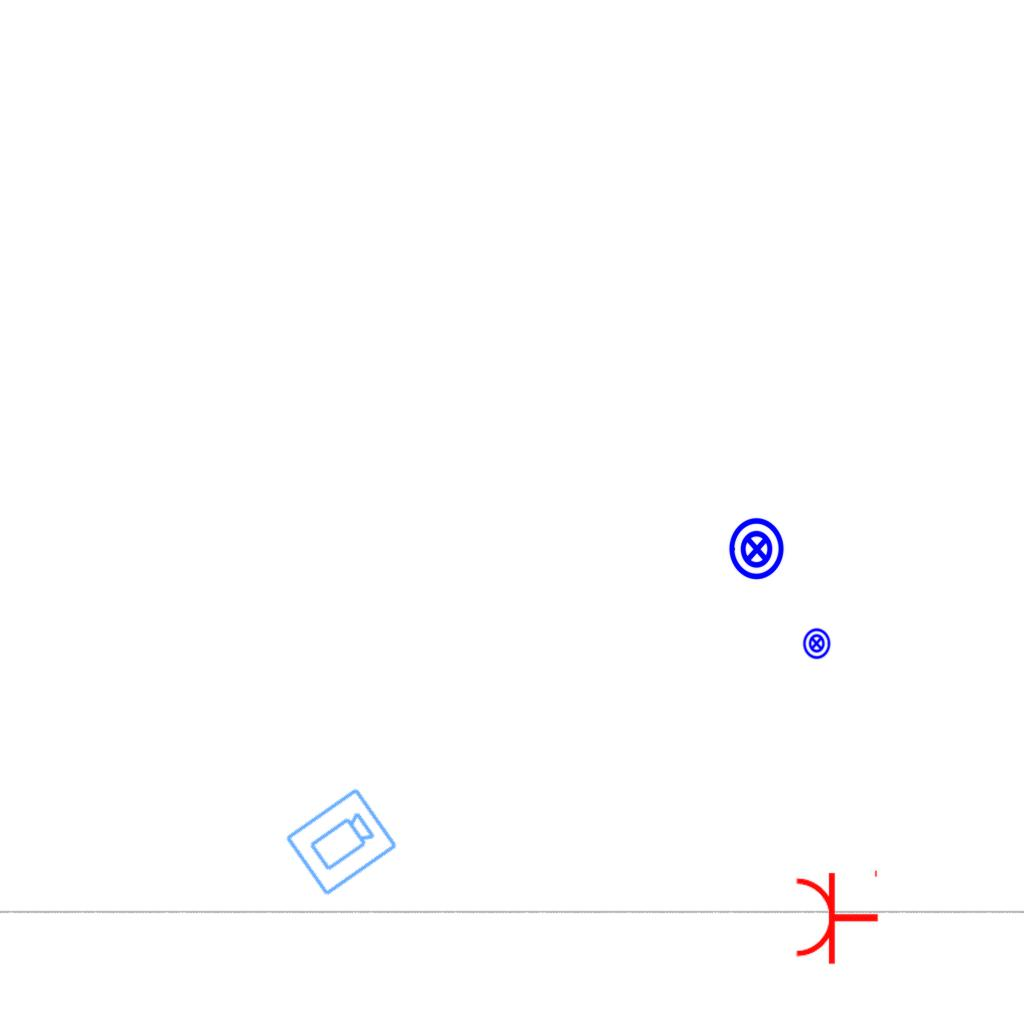KFO_Kamera_mit_Festobjektiv: (282, 784, 401, 901)
Schukosteckdose_einfach: (793, 866, 880, 966)
Taster_beleuchtet: (724, 516, 790, 582), (800, 627, 833, 660)
